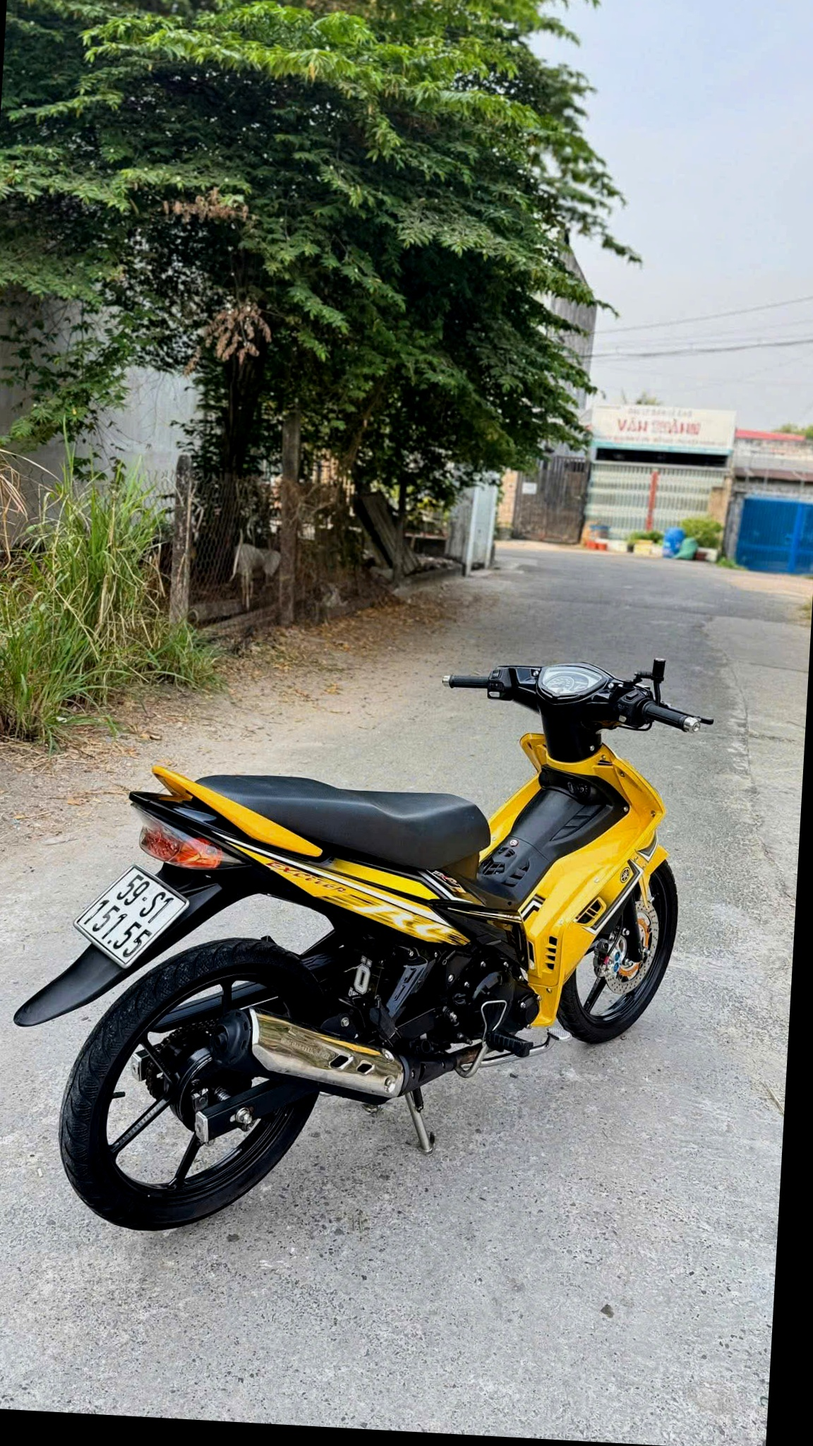Bien-so: (110, 926, 222, 1025)
